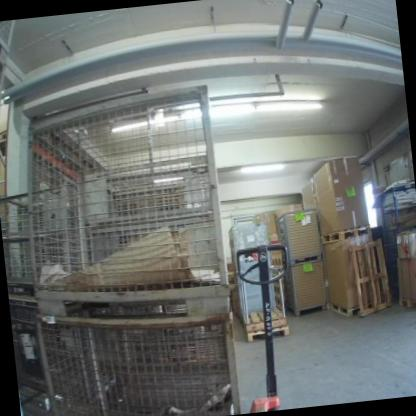pallet: (347, 236, 395, 320), (319, 223, 371, 246), (246, 325, 292, 344), (328, 296, 362, 321), (398, 293, 416, 313)
pallet_truck: (226, 240, 305, 412)
stillage: (15, 73, 237, 319), (41, 286, 245, 416), (10, 292, 94, 416), (0, 176, 81, 291), (287, 256, 335, 323), (276, 202, 327, 264)
